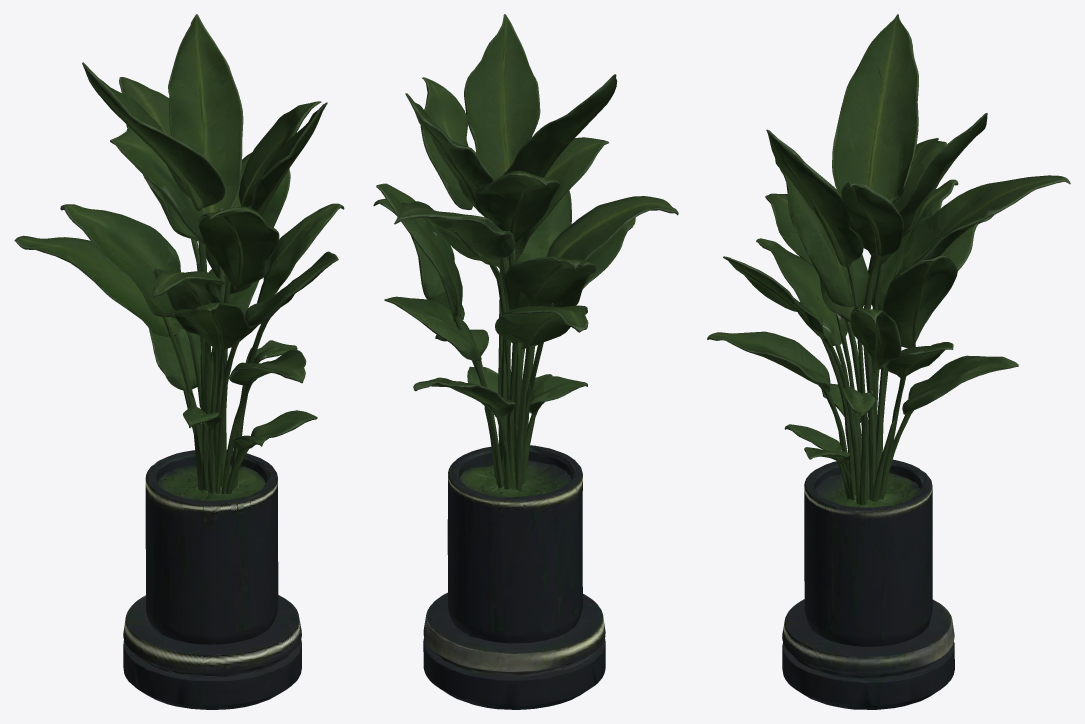
Rendered from plant.glb.
The picture shows the model from 3 angles, left to right: view 1: azimuth 30°, elevation 25°; view 2: azimuth 150°, elevation 25°; view 3: azimuth 270°, elevation 25°; orthographic projection. The views are drawn at different scales.
Bounding box in the file's own units: 0.8425 × 1.9 × 1.03.
Materials: 1 (1 with a texture image).
